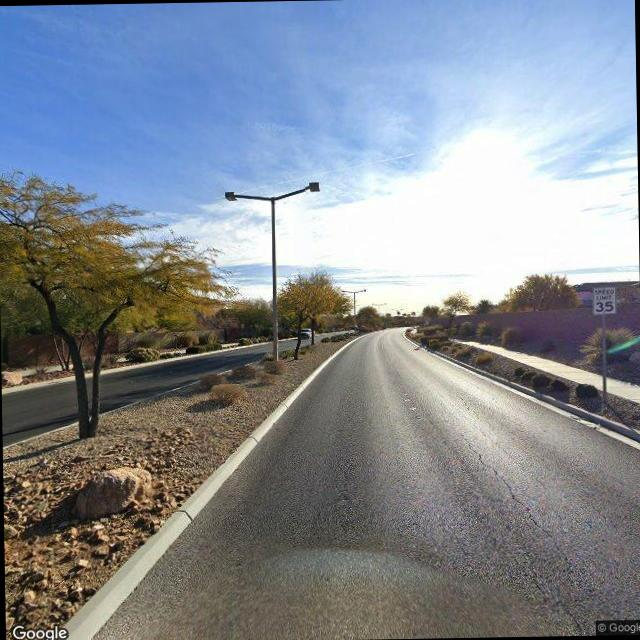pothole: (453, 430, 569, 564)
